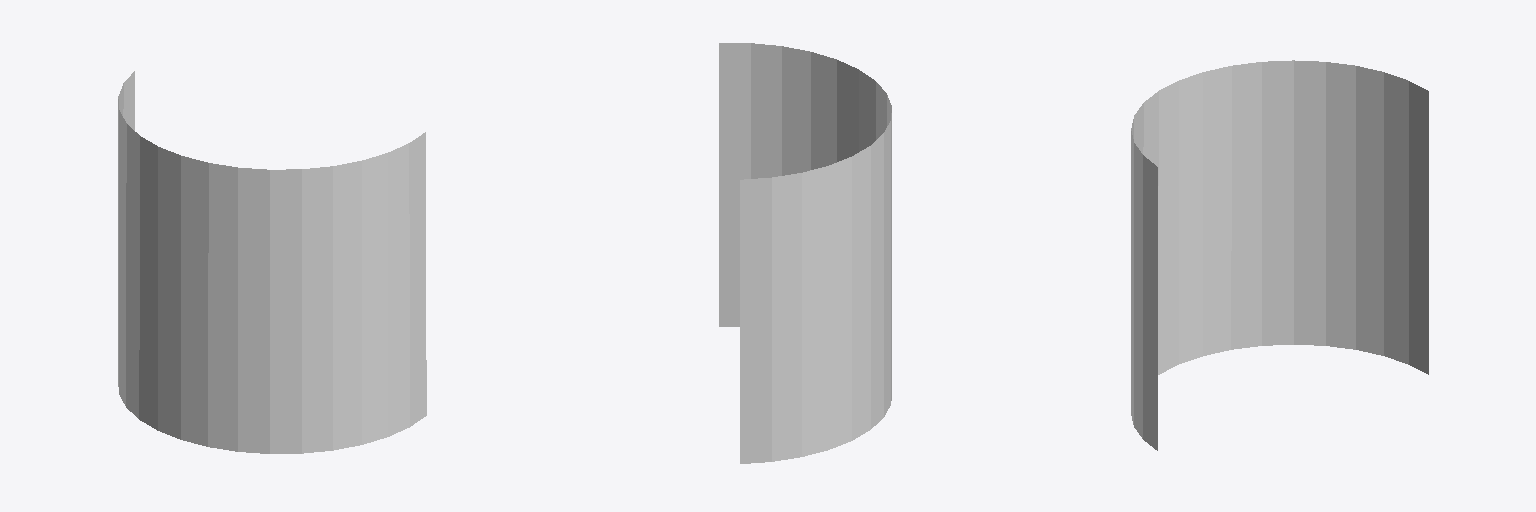
Rendered from wineBottleLabel.obj.
3 views of the same model, side by side, from view 1: azimuth 30°, elevation 25°; view 2: azimuth 150°, elevation 25°; view 3: azimuth 270°, elevation 25° (orthographic).
Visible parts, largest first — view 1: logo_bottl; view 2: logo_bottl; view 3: logo_bottl.
Part boxes in pixels (x1,y1,x2,y2): logo_bottl: (118,71,426,453); logo_bottl: (719,43,891,463); logo_bottl: (1131,60,1428,450).
Size of the model in its own units: 0.3098 by 0.3837 by 0.3649.